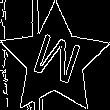M_S: (26, 29, 83, 92)
